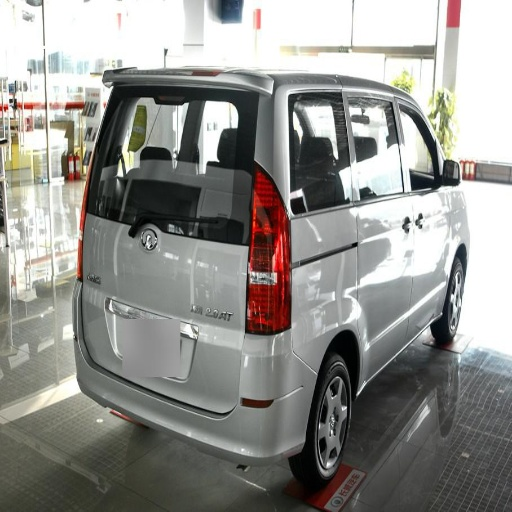back_bumper: (83, 331, 323, 503)
back_glass: (97, 88, 261, 217)
back_right_door: (291, 92, 405, 197), (360, 254, 389, 366)
tailgate: (86, 311, 229, 410)
trunk: (91, 212, 260, 412), (303, 224, 354, 354)
